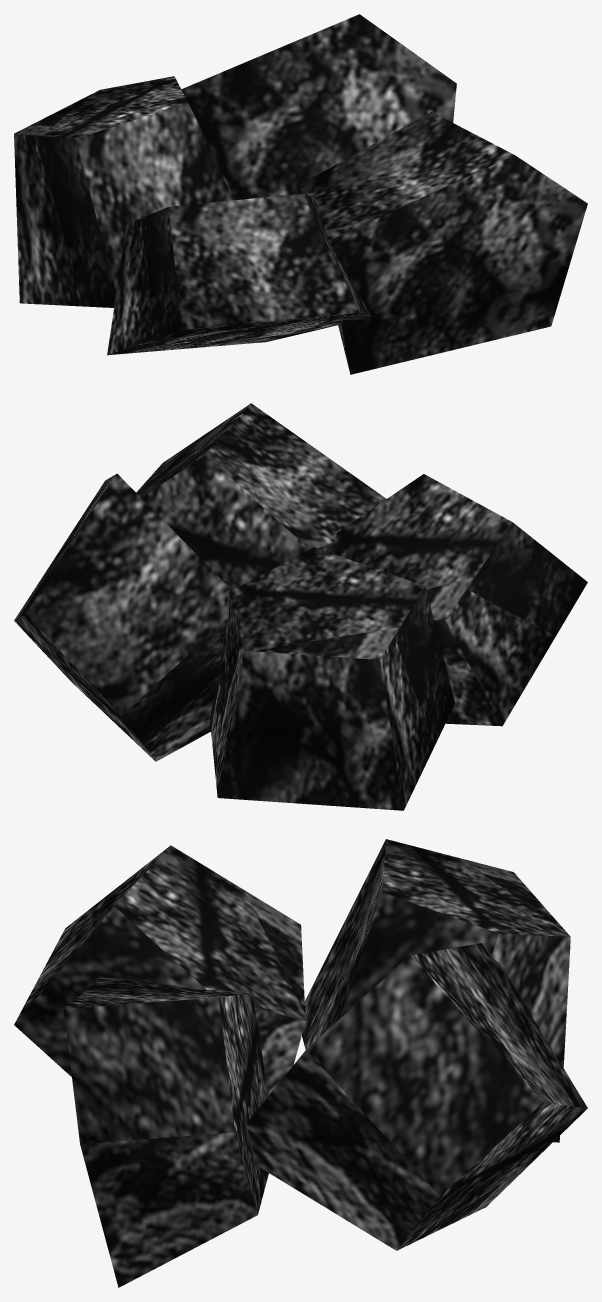
The model's file is static.glb.
3 views of the same model, one above another, from view 1: azimuth 30°, elevation 25°; view 2: azimuth 150°, elevation 25°; view 3: azimuth 270°, elevation 25° (orthographic). The views are drawn at different scales.
Visible parts, largest first — view 1: Cube_1, Cube_2, Cube_0, Cube_3; view 2: Cube_2, Cube_3, Cube_0, Cube_1; view 3: Cube_3, Cube_1, Cube_0, Cube_2.
Boxes of the visible parts, box(x1,y1,x2,y2) form: Cube_1: box(299, 112, 587, 374); Cube_2: box(14, 76, 235, 307); Cube_0: box(107, 193, 371, 355); Cube_3: box(181, 14, 456, 199); Cube_2: box(209, 547, 455, 810); Cube_3: box(14, 473, 231, 761); Cube_0: box(326, 474, 587, 726); Cube_1: box(136, 403, 386, 590); Cube_3: box(246, 943, 587, 1250); Cube_1: box(63, 976, 268, 1287); Cube_0: box(14, 845, 305, 1094); Cube_2: box(302, 839, 570, 1142).
Size of the model in its own units: 0.9395 by 0.5459 by 0.9425.
Materials: 1 (1 with a texture image).
